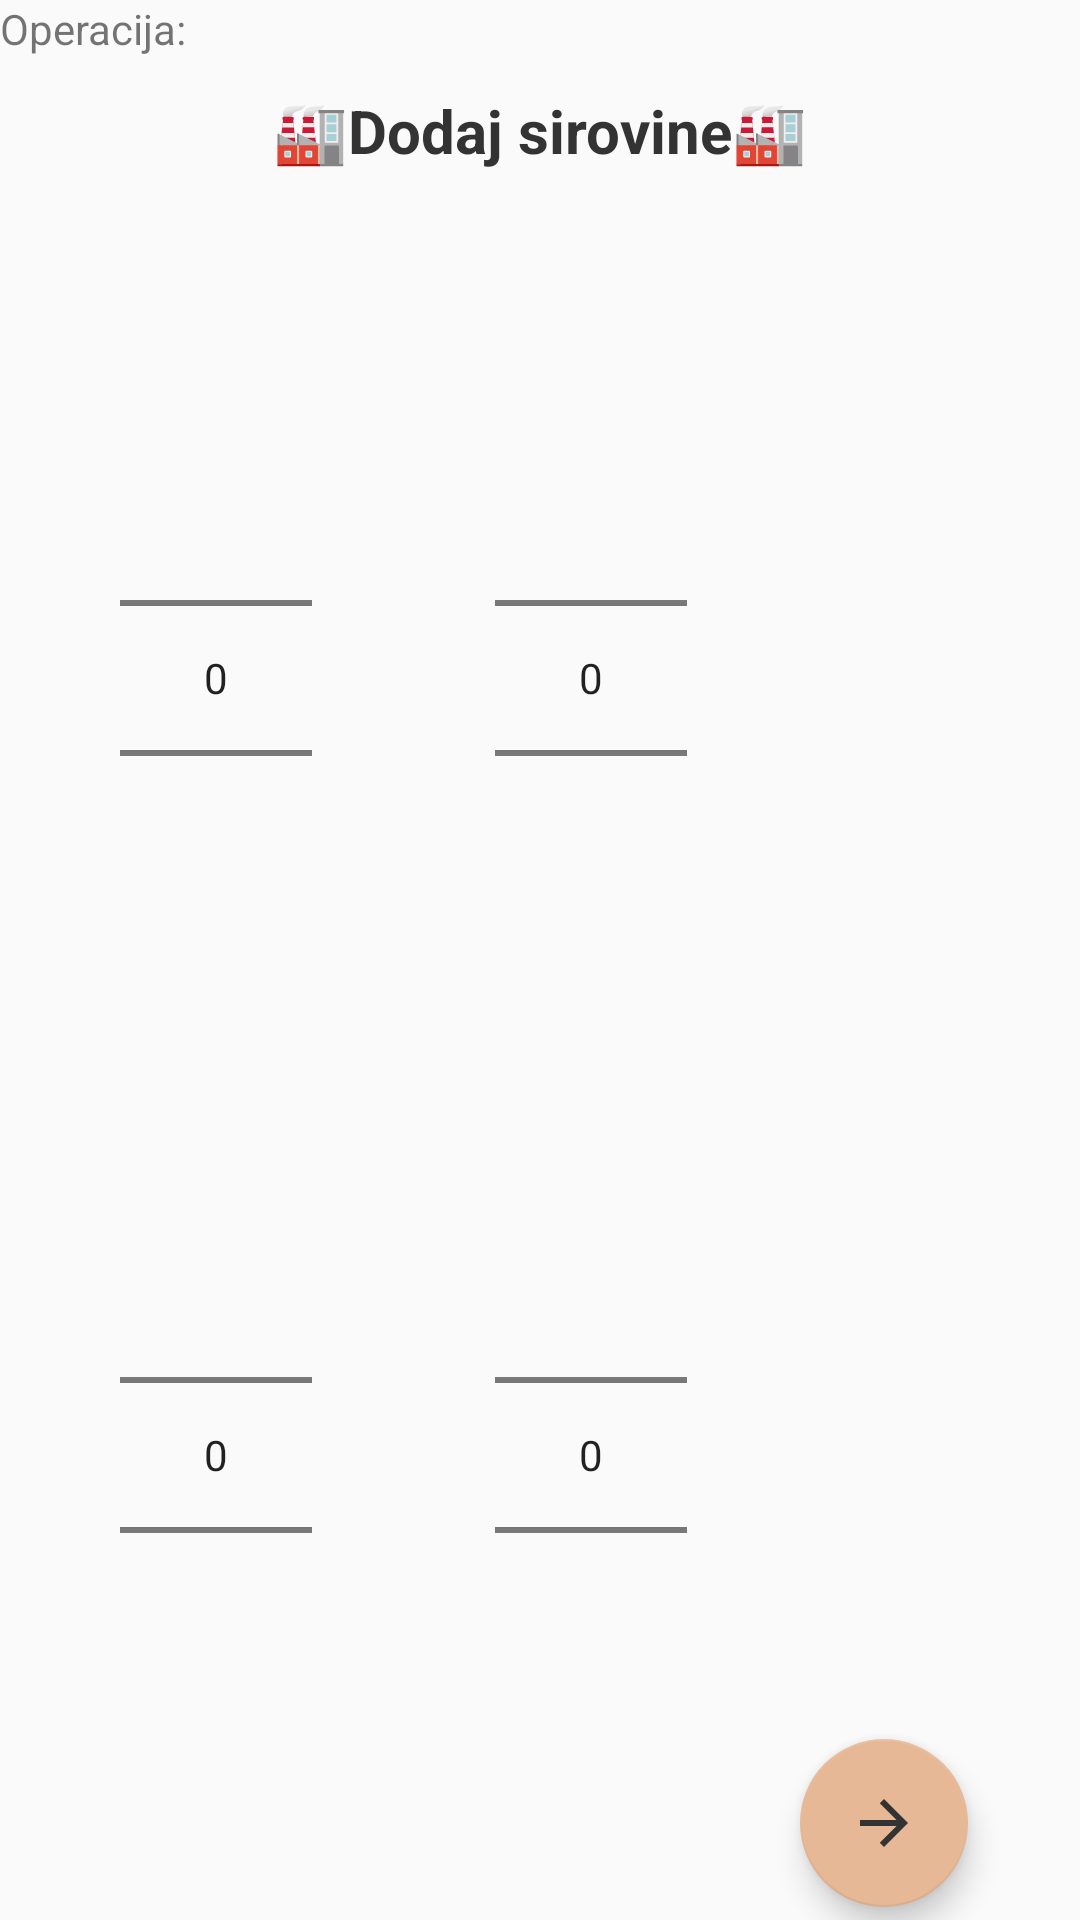

Screen size 1080px x 1920px. Icon name, then its box in pixels as (x1=x1, y1=y1, x2=x2, y2=y2):
arrow forward: (x1=800, y1=1739, x2=968, y2=1907)
